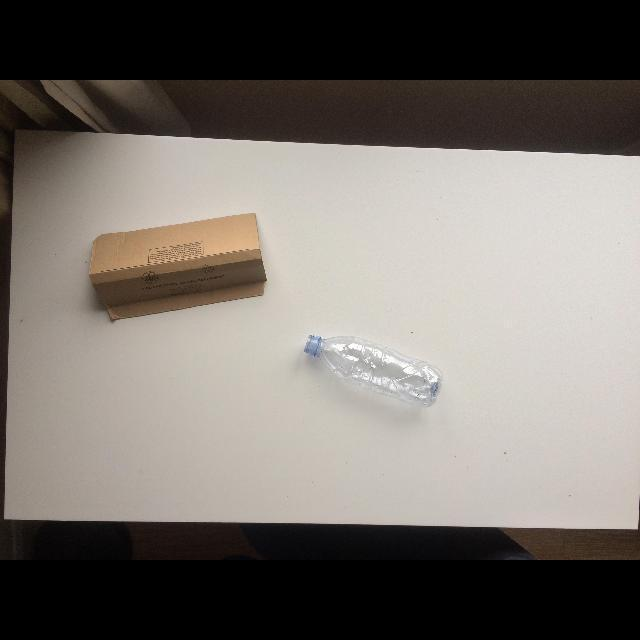Cardboard: (90, 214, 266, 318)
Plastic: (297, 330, 446, 427)
